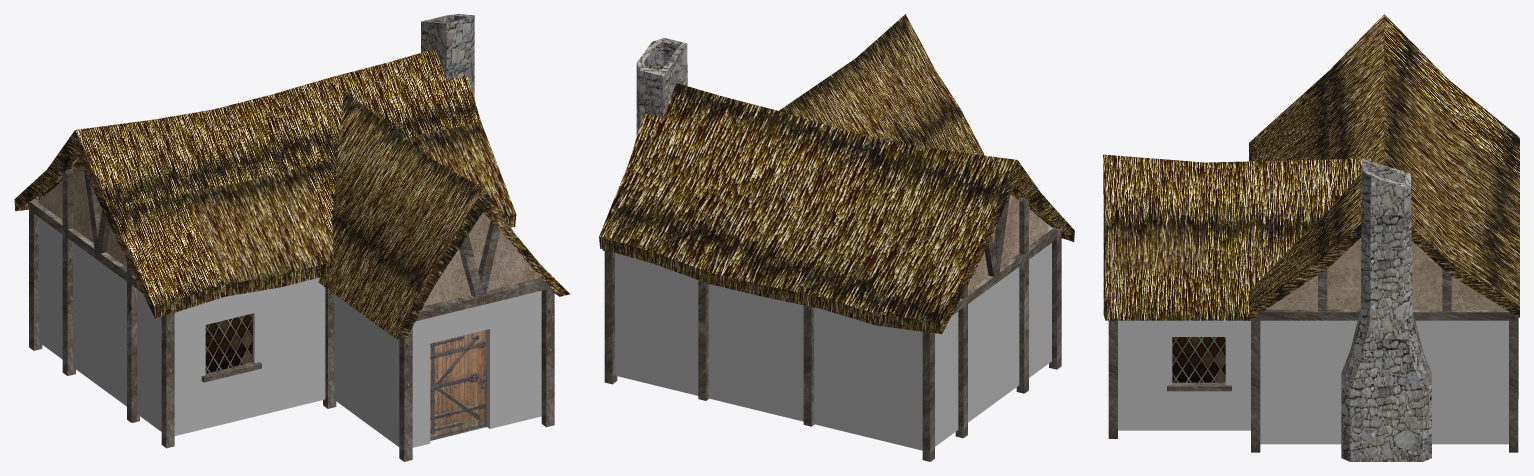
File: Casita2.fbx
The picture shows the model from 3 angles, left to right: view 1: azimuth 30°, elevation 25°; view 2: azimuth 150°, elevation 25°; view 3: azimuth 270°, elevation 25°; orthographic projection. The views are drawn at different scales.
Parts seen in each view (by area): view 1: Object001; view 2: Object001; view 3: Object001.
Boxes of the visible parts, x1,y1,x2,y2 form: Object001: (14,14,570,461); Object001: (599,14,1074,461); Object001: (1103,14,1519,461).
Size of the model in its own units: 169 by 121 by 157.
